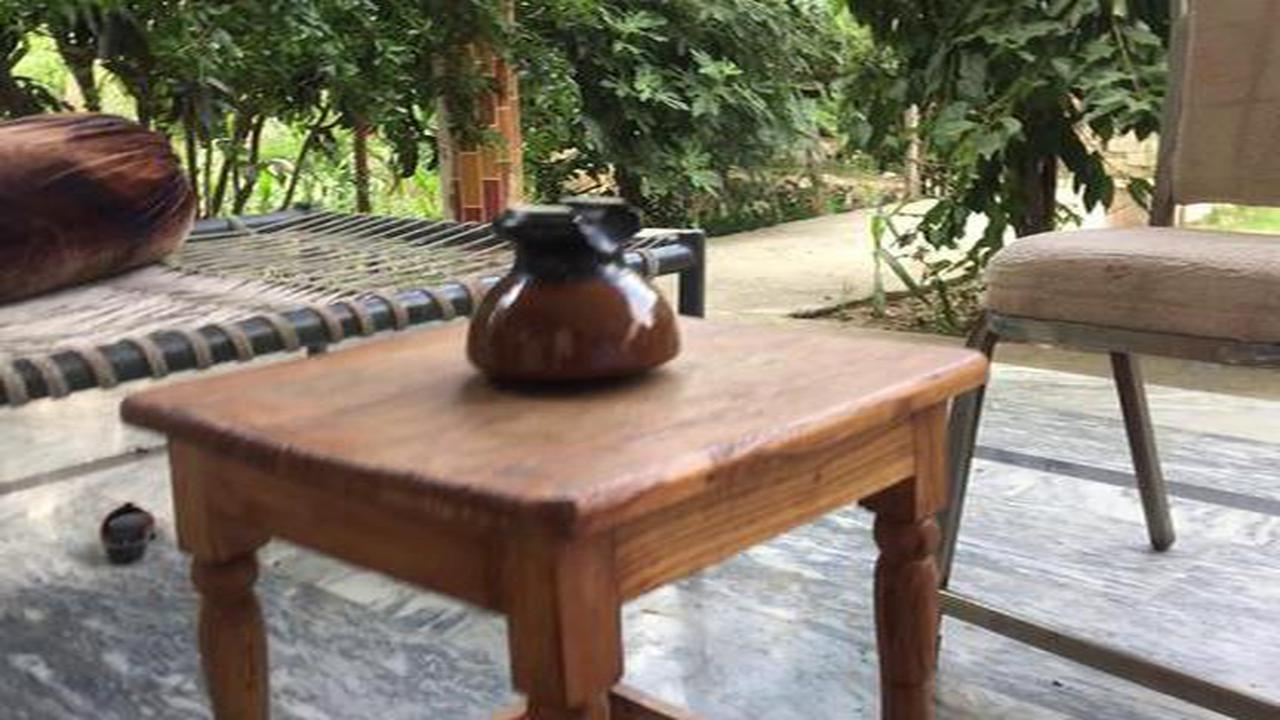insulator_pin: (441, 182, 693, 392)
